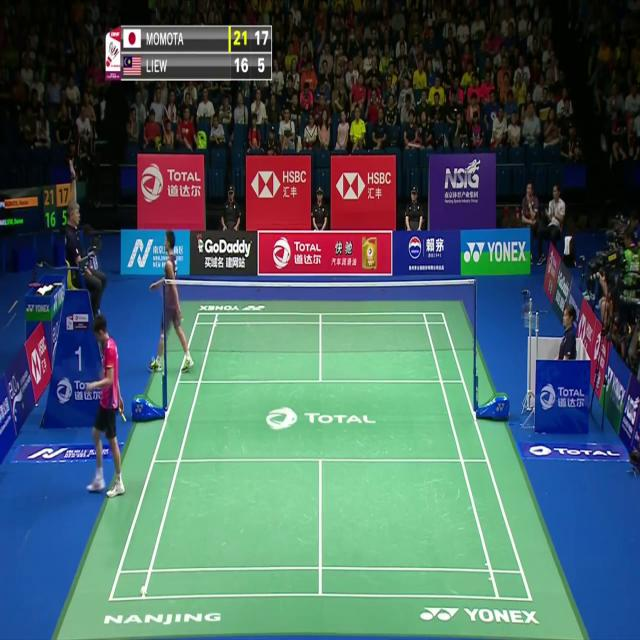Shuttlecock: (140, 584, 146, 595)
